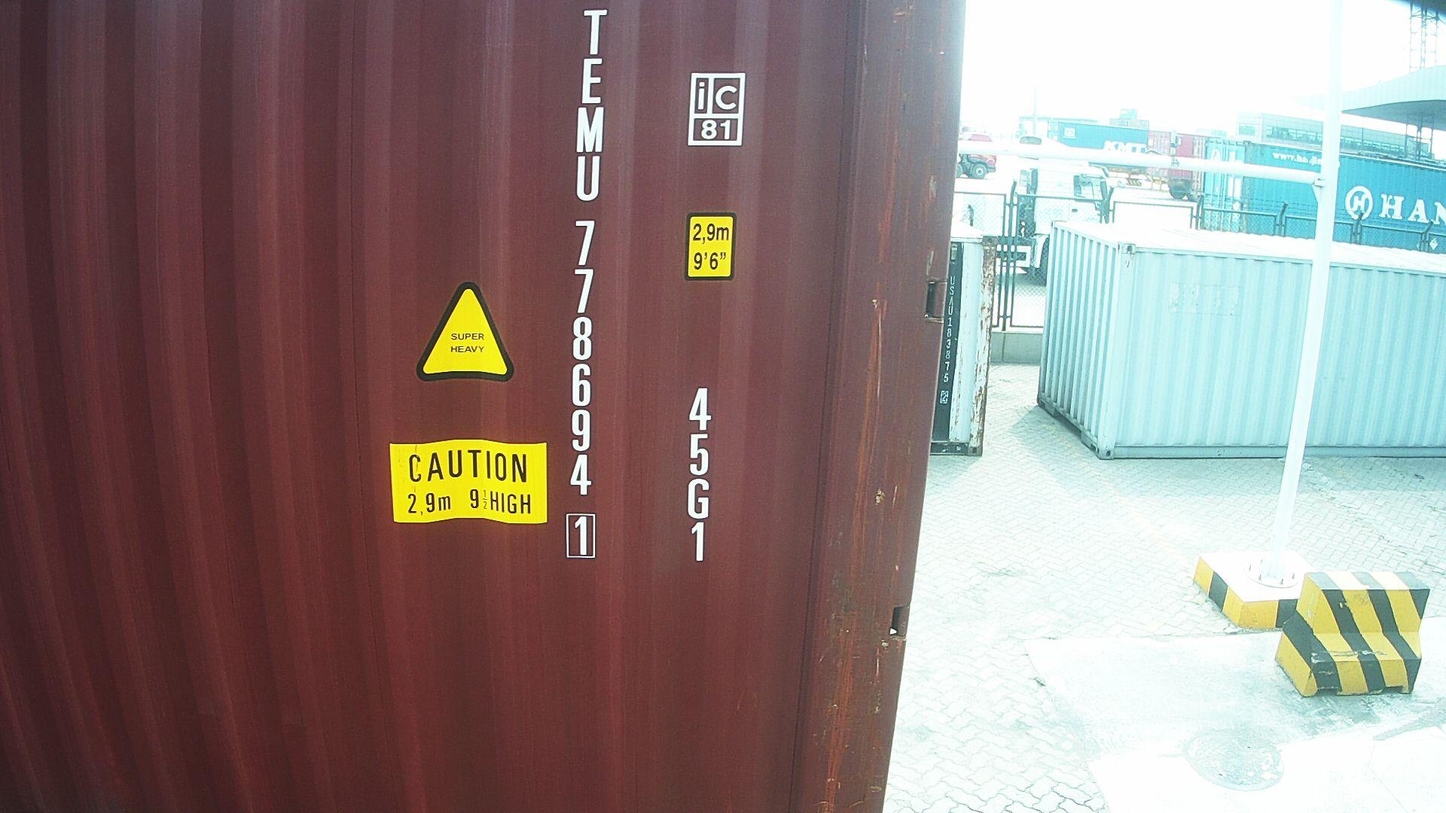container-numbers: (560, 2, 612, 563), (680, 382, 717, 570)
